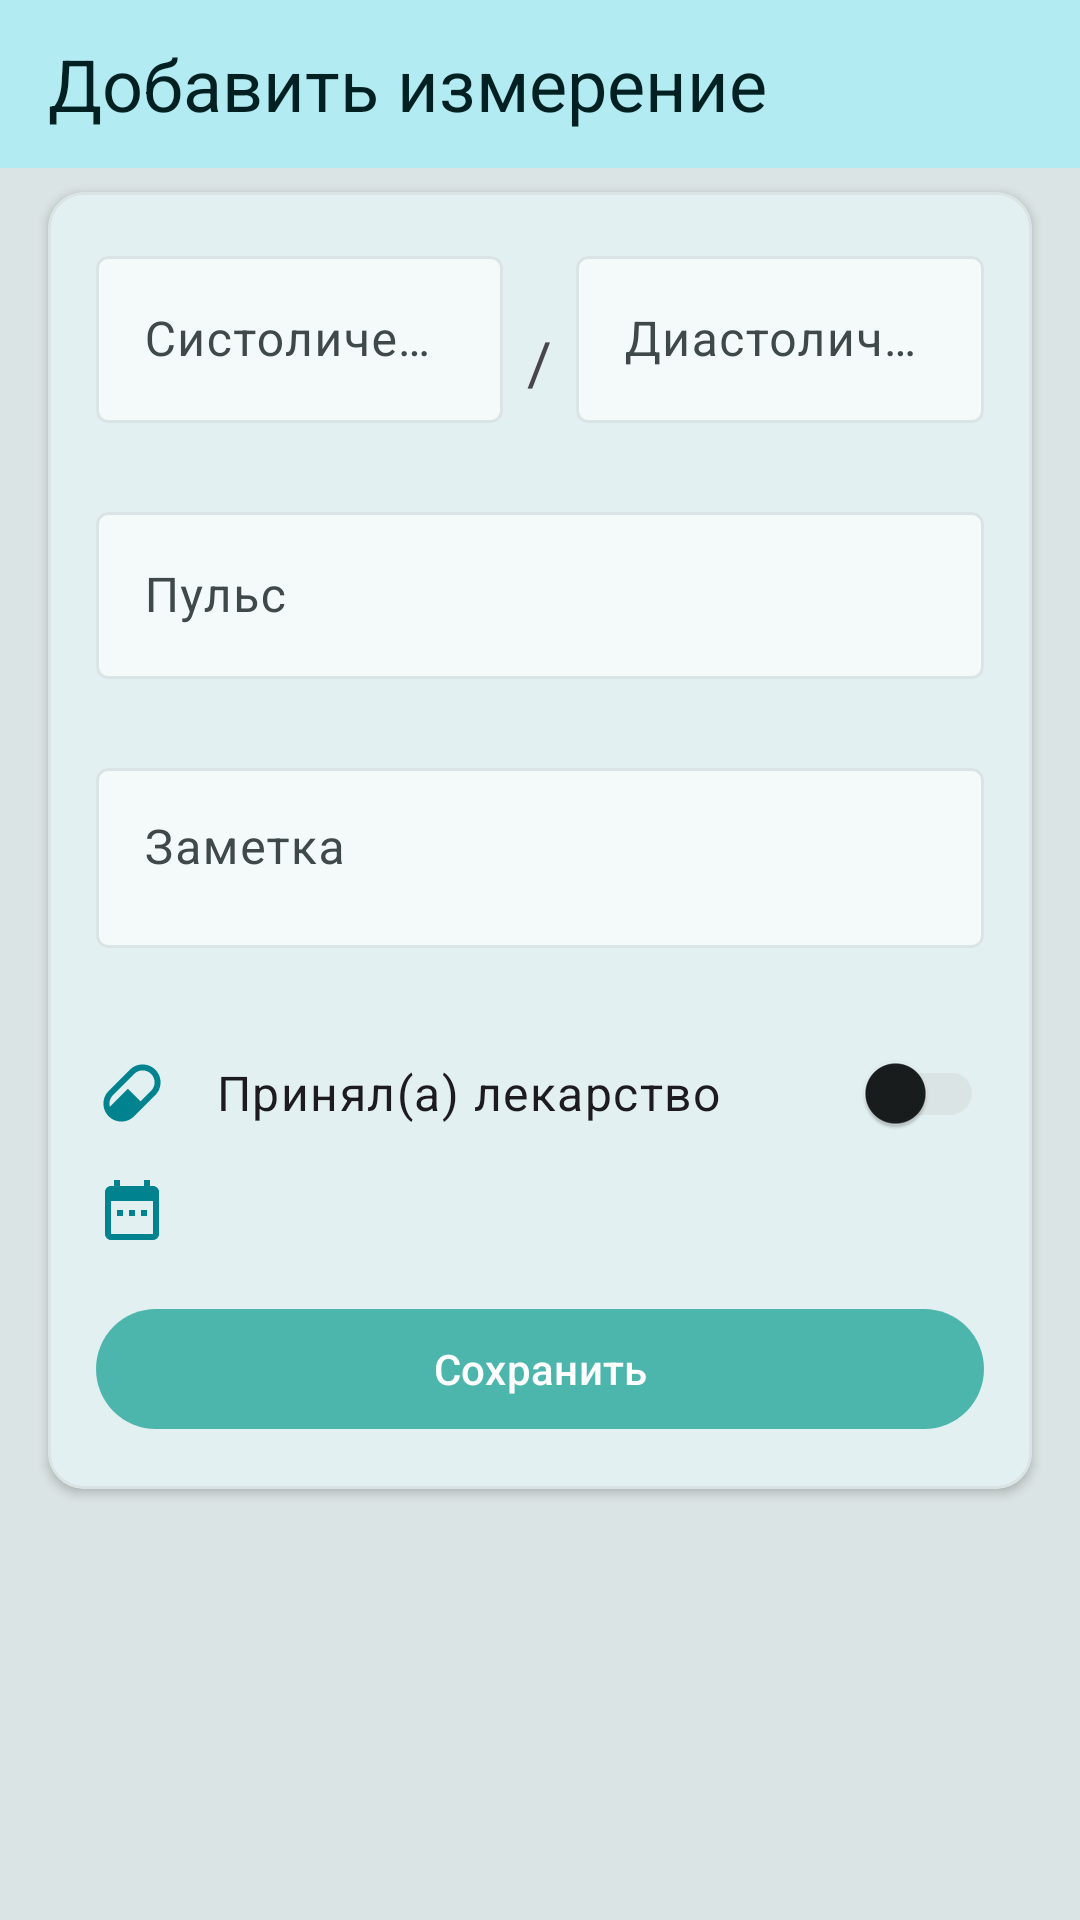

Icon bounding boxes for this 1080*1920 phone screenshot, format {"x1": x1, "y1": y1, "x2": x2, "y2": y2}:
Иконка календаря: {"x1": 105, "y1": 1180, "x2": 159, "y2": 1240}
Принято лекарство: {"x1": 103, "y1": 1064, "x2": 161, "y2": 1122}
